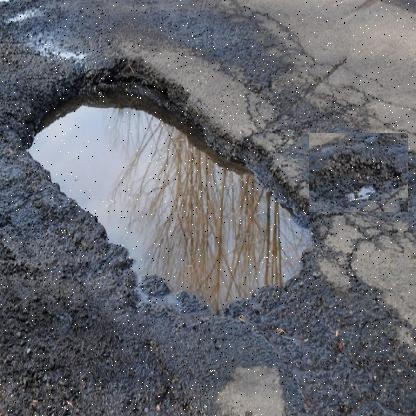pothole: (308, 133, 408, 213)
pothole_water: (4, 44, 334, 333)
